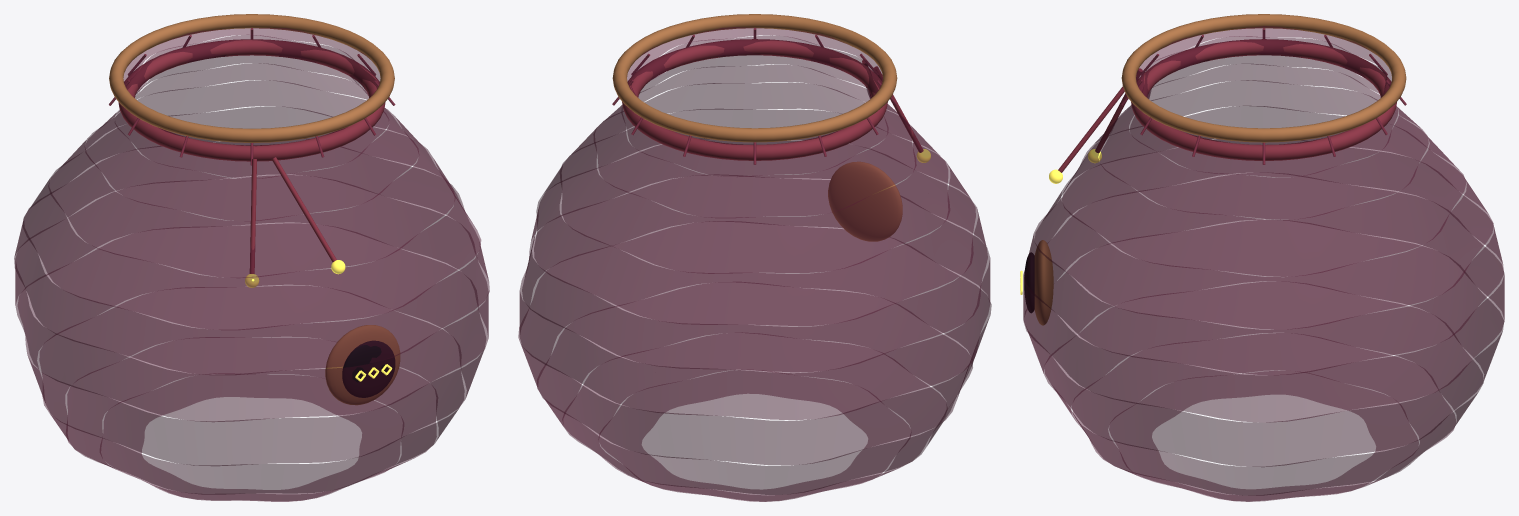
File: bag.glb
3 views of the same model, side by side, from view 1: azimuth 30°, elevation 25°; view 2: azimuth 150°, elevation 25°; view 3: azimuth 270°, elevation 25° (orthographic).
Visible parts, largest first — view 1: TranslucentCloth, MetalOpenMouth, Drawstring, SealBezel, SealEnamel, _MeshInstance3D_280, DrawstringTail; view 2: TranslucentCloth, MetalOpenMouth, Drawstring, SealBezel; view 3: TranslucentCloth, MetalOpenMouth, Drawstring, SealBezel, _MeshInstance3D_280, SealEnamel.
Boxes of the visible parts, box(x1,y1,x2,y2) form: TranslucentCloth: box(14, 27, 489, 501); MetalOpenMouth: box(109, 14, 394, 142); Drawstring: box(118, 39, 385, 161); SealBezel: box(325, 325, 400, 405); SealEnamel: box(342, 340, 395, 397); _MeshInstance3D_280: box(271, 157, 336, 262); DrawstringTail: box(249, 159, 256, 273); TranslucentCloth: box(518, 27, 991, 501); MetalOpenMouth: box(612, 14, 897, 142); Drawstring: box(622, 39, 887, 160); SealBezel: box(828, 161, 902, 241); TranslucentCloth: box(1023, 26, 1504, 501); MetalOpenMouth: box(1121, 14, 1406, 142); Drawstring: box(1131, 39, 1396, 160); SealBezel: box(1034, 240, 1053, 325); _MeshInstance3D_280: box(1058, 86, 1124, 172); SealEnamel: box(1024, 252, 1034, 313).
Size of the model in its own units: 0.7402 by 0.628 by 0.745.
